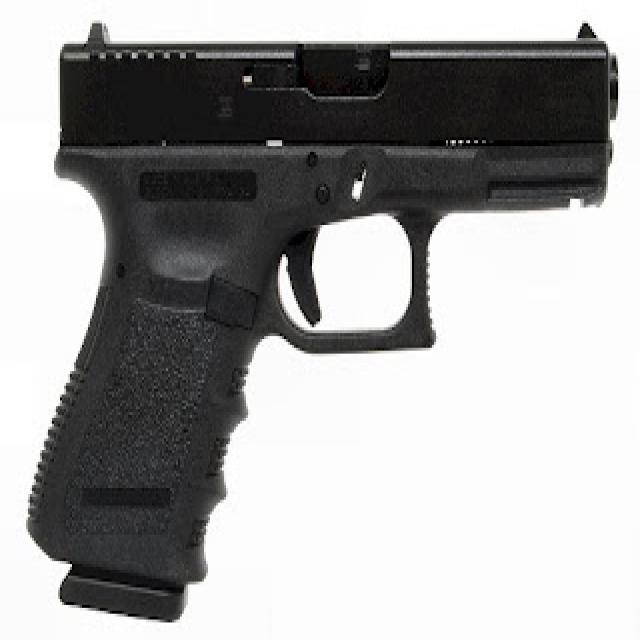gun: (26, 17, 622, 634)
